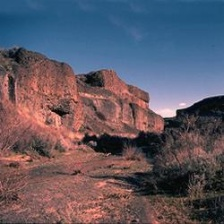neutral: (2, 9, 224, 222)
